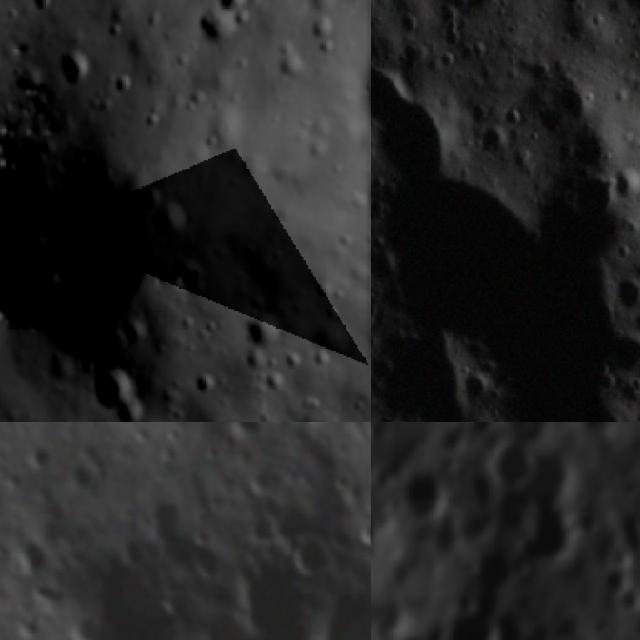crater: (0, 225, 84, 345), (296, 573, 371, 640), (523, 505, 586, 567), (87, 366, 153, 422), (398, 460, 451, 529), (428, 594, 501, 640), (520, 448, 578, 502), (371, 583, 419, 639), (8, 528, 54, 582), (491, 440, 536, 489), (284, 528, 328, 574), (475, 543, 521, 584), (59, 604, 110, 640), (244, 311, 291, 348), (152, 200, 193, 241), (609, 329, 640, 382), (21, 435, 63, 474), (112, 536, 152, 570), (189, 540, 221, 581), (6, 608, 46, 640), (611, 159, 640, 202), (60, 54, 94, 90), (276, 42, 309, 76), (242, 465, 276, 497), (215, 422, 266, 442), (498, 100, 528, 132), (312, 16, 340, 50), (194, 370, 221, 403), (613, 275, 640, 308), (64, 461, 97, 488), (154, 586, 182, 616), (499, 422, 550, 438), (313, 273, 335, 305), (104, 13, 124, 44), (111, 72, 136, 96), (330, 467, 354, 492), (198, 441, 224, 464), (125, 422, 150, 444), (315, 347, 337, 371), (355, 518, 371, 550), (232, 7, 252, 32), (160, 422, 183, 442), (32, 0, 63, 14), (313, 430, 334, 449), (170, 627, 196, 640), (359, 489, 371, 516), (215, 0, 252, 7)
